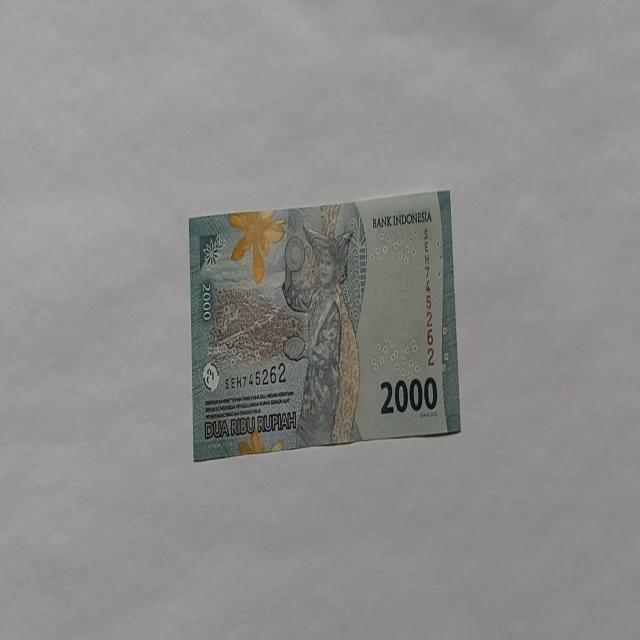dua ribu rupiah: (188, 188, 461, 461), (280, 222, 361, 448)
